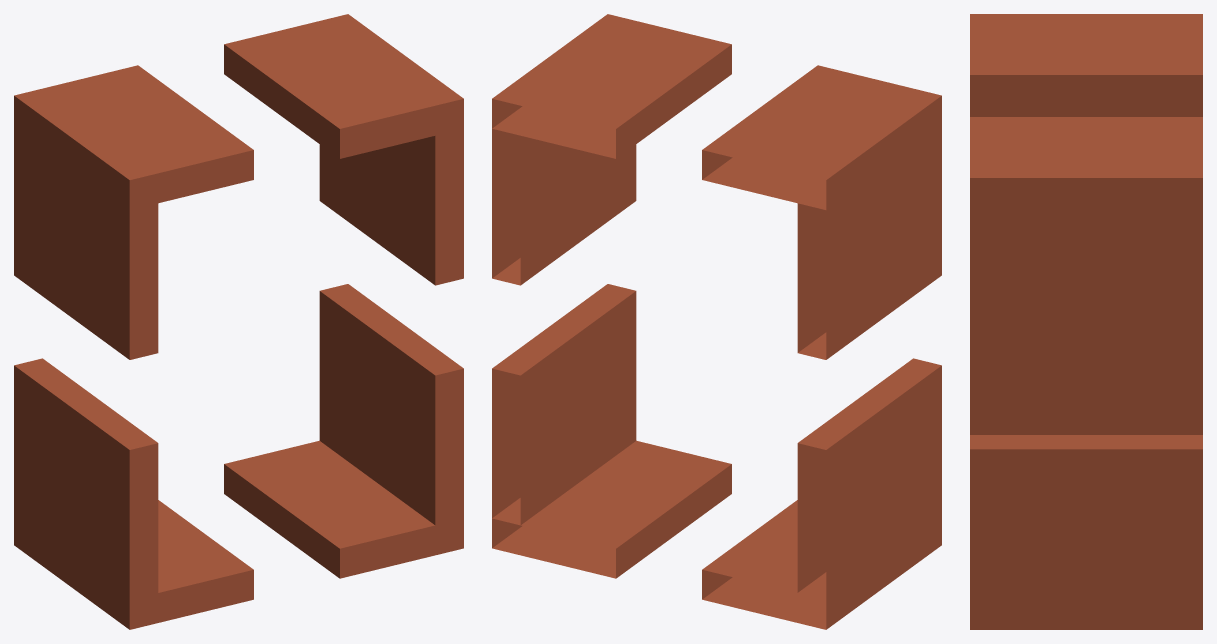
The model's file is construction_1.glb.
3 views of the same model, side by side, from view 1: azimuth 30°, elevation 25°; view 2: azimuth 150°, elevation 25°; view 3: azimuth 270°, elevation 25° (orthographic).
Parts seen in each view (by area): view 1: c1; view 2: c1; view 3: c1.
Boxes of the visible parts, x1,y1,x2,y2 form: c1: [14, 14, 463, 629]; c1: [492, 14, 941, 629]; c1: [970, 14, 1202, 629].
Size of the model in its own units: 7 by 9 by 4.2.
